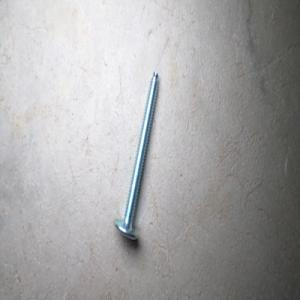Bolt: (112, 70, 159, 241)
